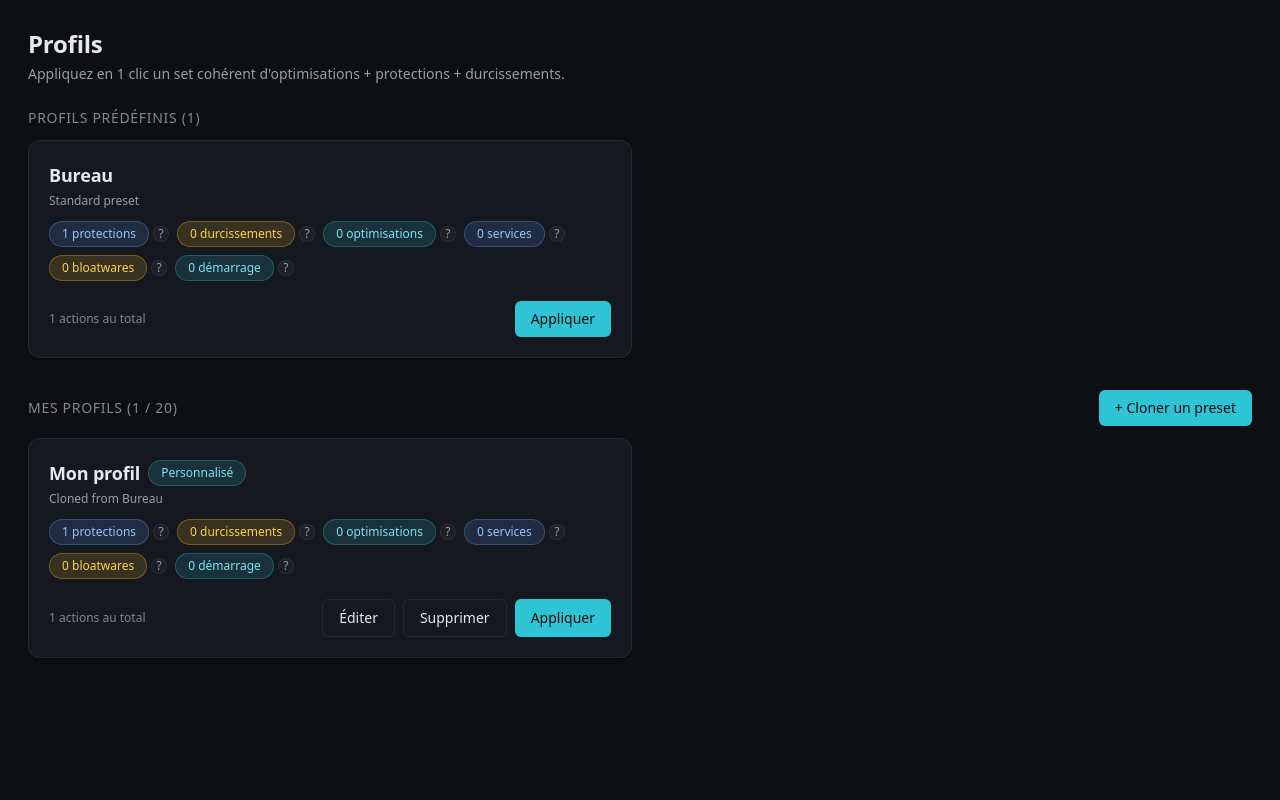
ProfilesPage › opens clone dialog when clone button clicked
Click the button "+ Cloner un preset": (1175, 408) left=1099, top=390, right=1252, bottom=426
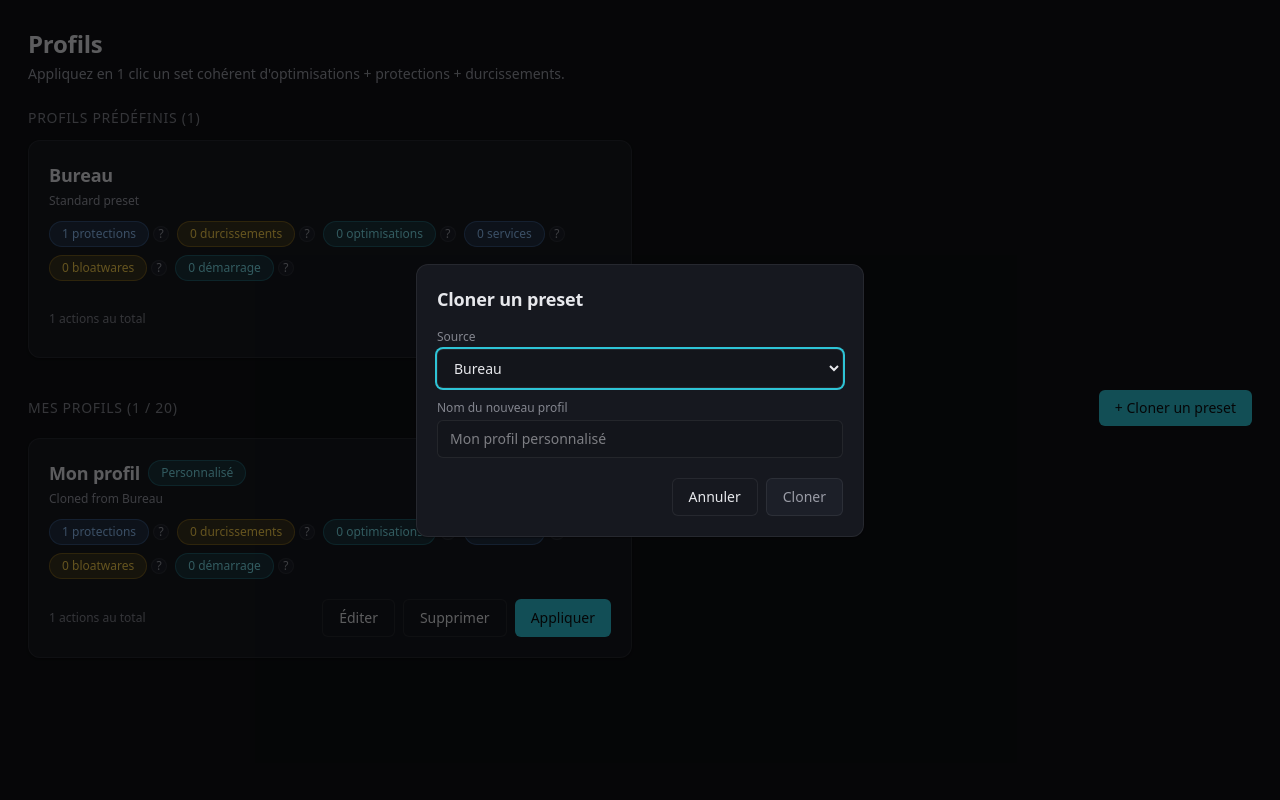
expect the dialog is shown: met
